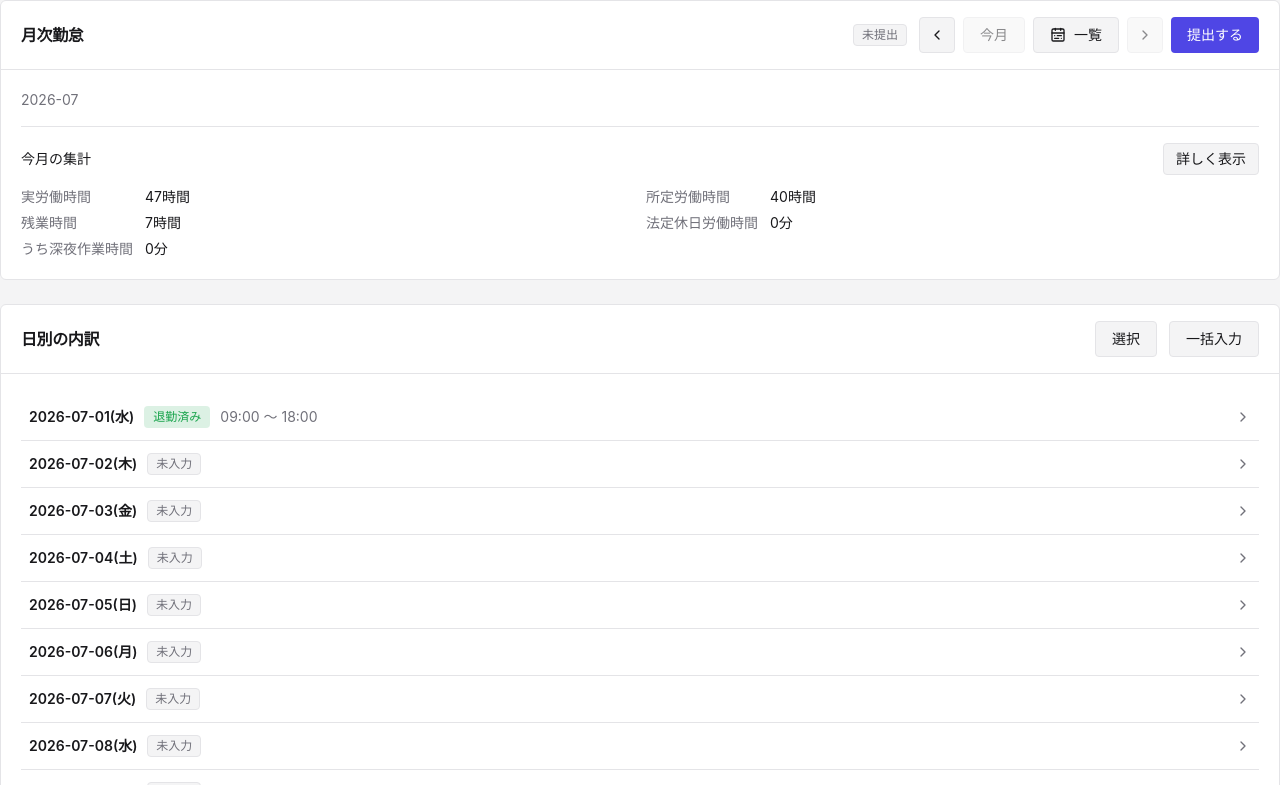
Test: AttendanceMonthDetailPage › shows the monthly calculation totals summary
Expected: the heading "今月の集計" is shown, [21,149,91,169]
Step 1. Click the button "詳しく表示" → (1211, 159), box [1163,143,1259,175]
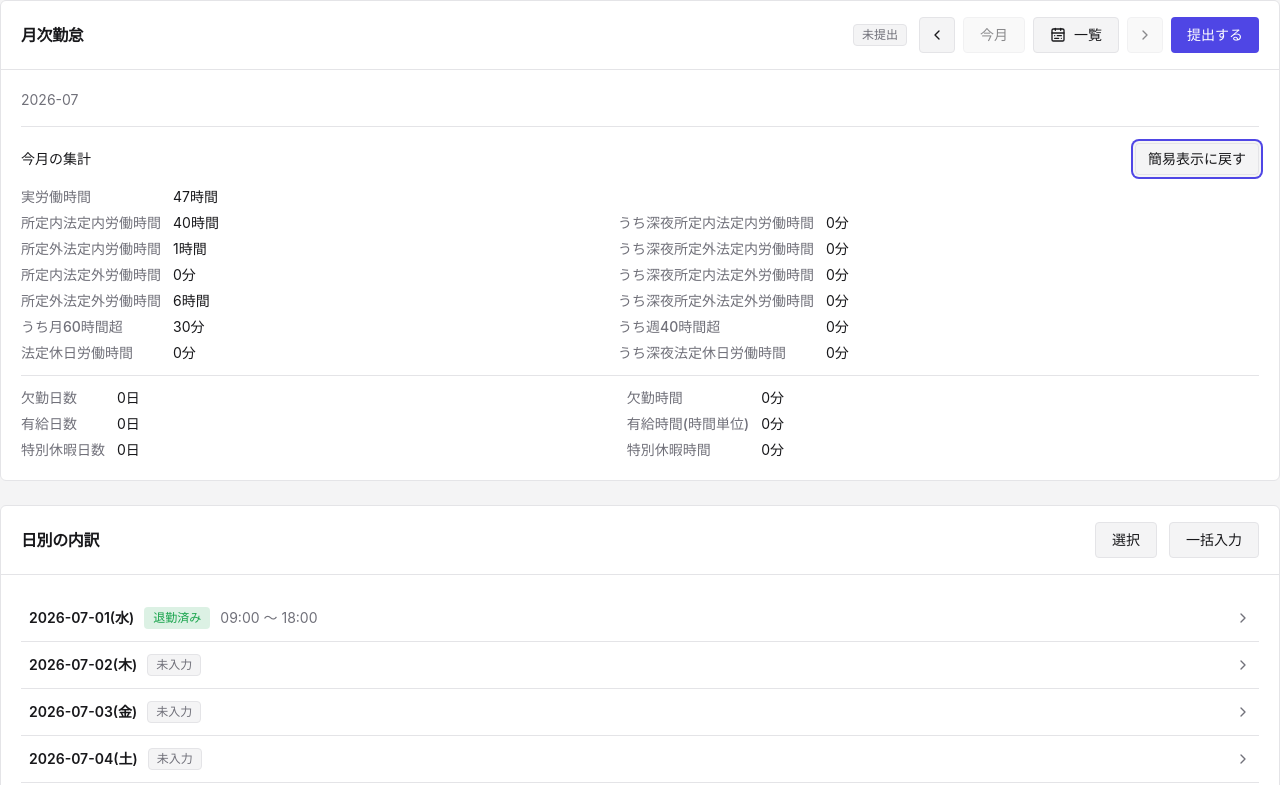
Result: the text "所定内法定内労働時間" is shown at [21,213,161,233]
Result: the text "40時間" is shown at [173,214,219,231]
Result: the text "1時間" is shown at [173,240,207,257]
